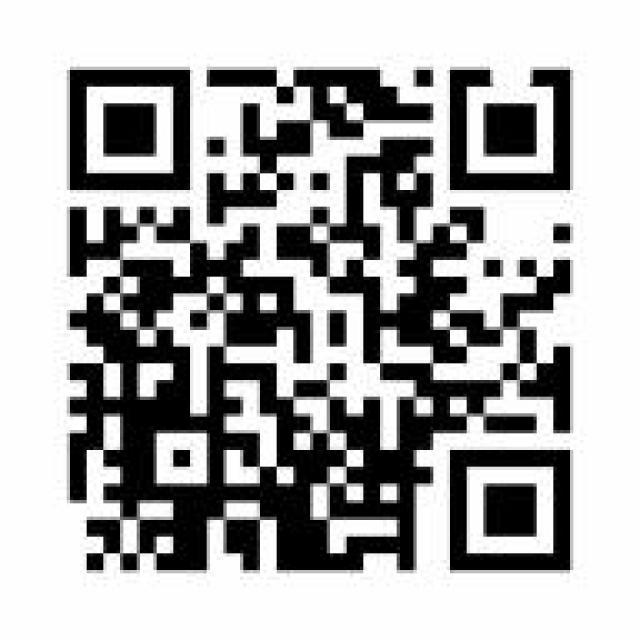qr_code: (68, 68, 572, 572)
